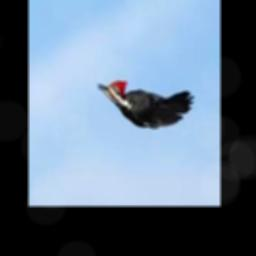Woodpecker: (98, 80, 195, 127)
